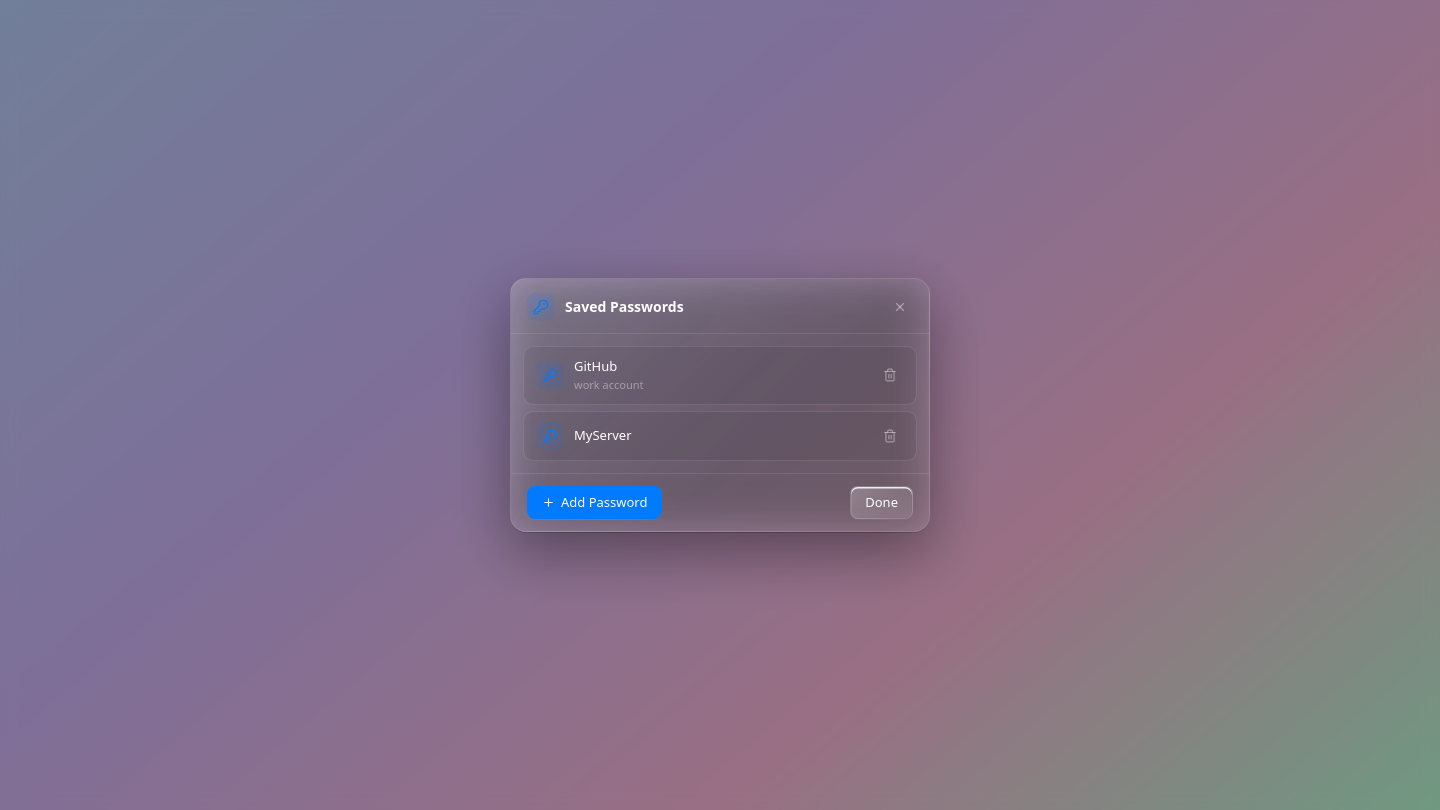
Scenario: PasswordManager › shows confirm UI after delete button clicked
What coordinates should you click on to do the following:
click the button titled "Delete" in the row of "work account"
I would click on:
 (890, 375)
Its box is [876,361,904,389].
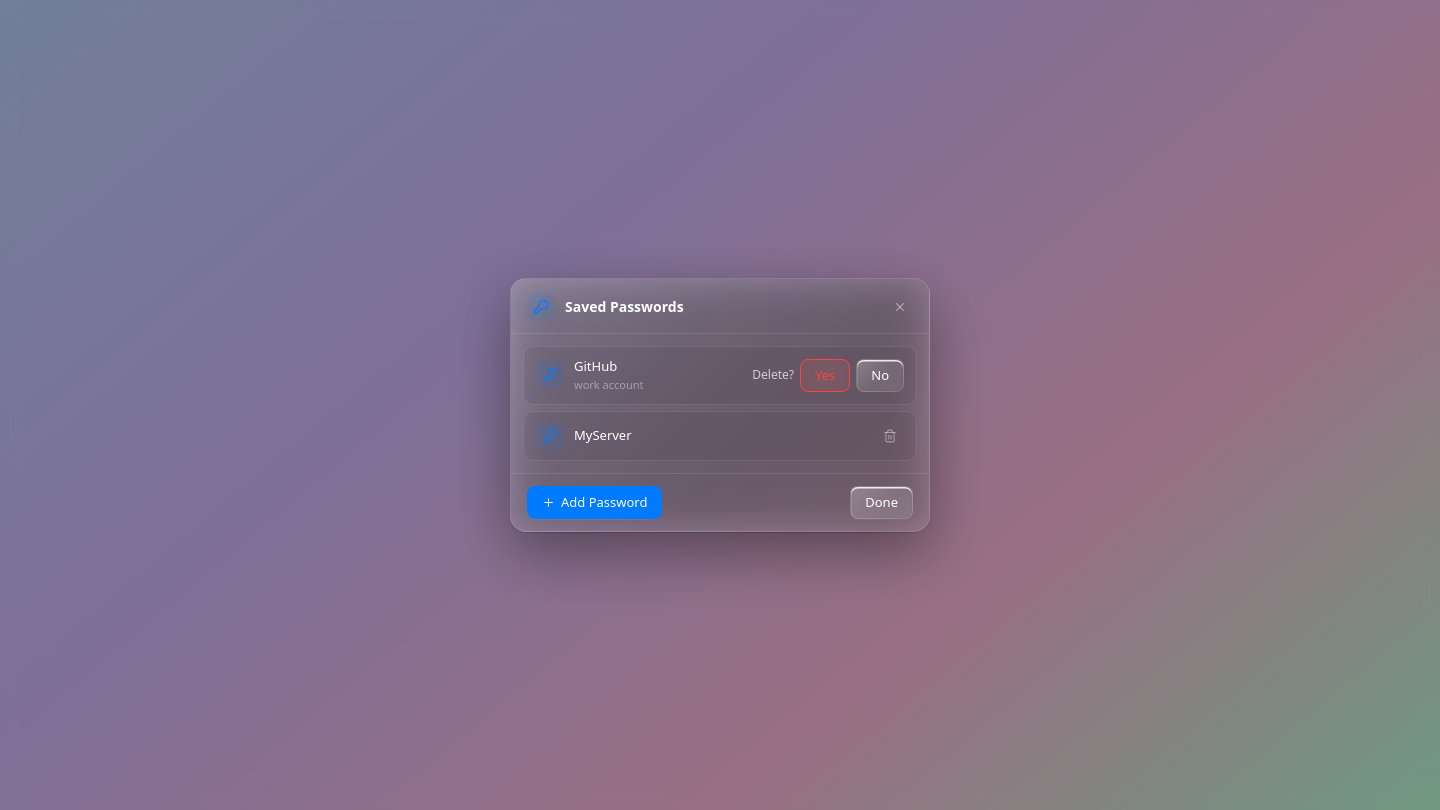
Check: the text "Delete?" is shown, box [752,366,794,384]
